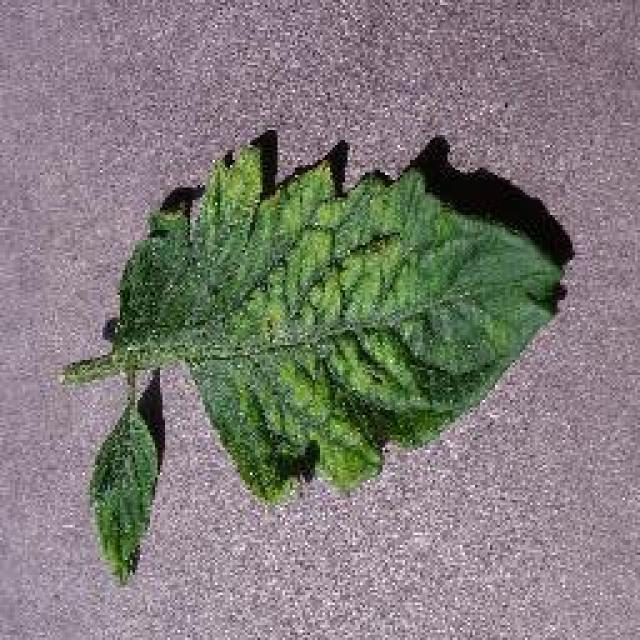Tomato spider mites leaf: (115, 137, 570, 505), (88, 409, 162, 586)
